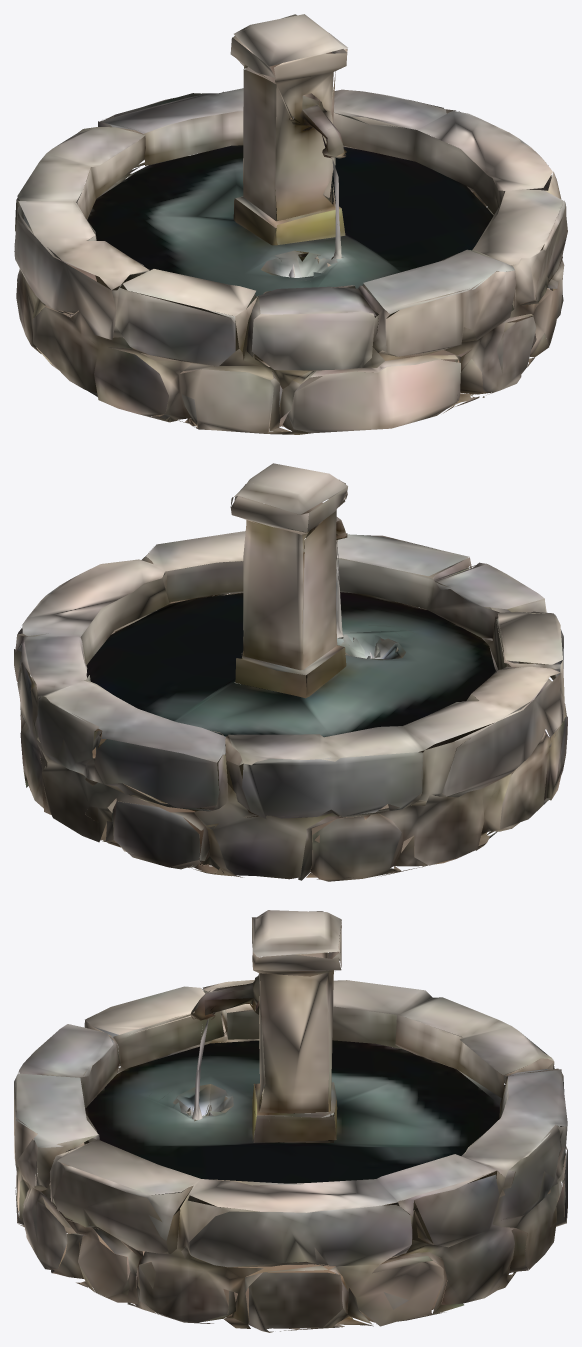
The model's file is fuente_plaza.movil.glb.
3 renders of one model, top to bottom at view 1: azimuth 30°, elevation 25°; view 2: azimuth 150°, elevation 25°; view 3: azimuth 270°, elevation 25°, orthographic.
Visible parts, largest first — view 1: geometry_0; view 2: geometry_0; view 3: geometry_0.
Boxes of the visible parts, x1,y1,x2,y2 form: geometry_0: (14,14,567,434); geometry_0: (14,463,567,881); geometry_0: (14,910,567,1332).
Bounding box in the file's own units: 2.19 × 1.3 × 2.2.
Materials: 1 (1 with a texture image).
